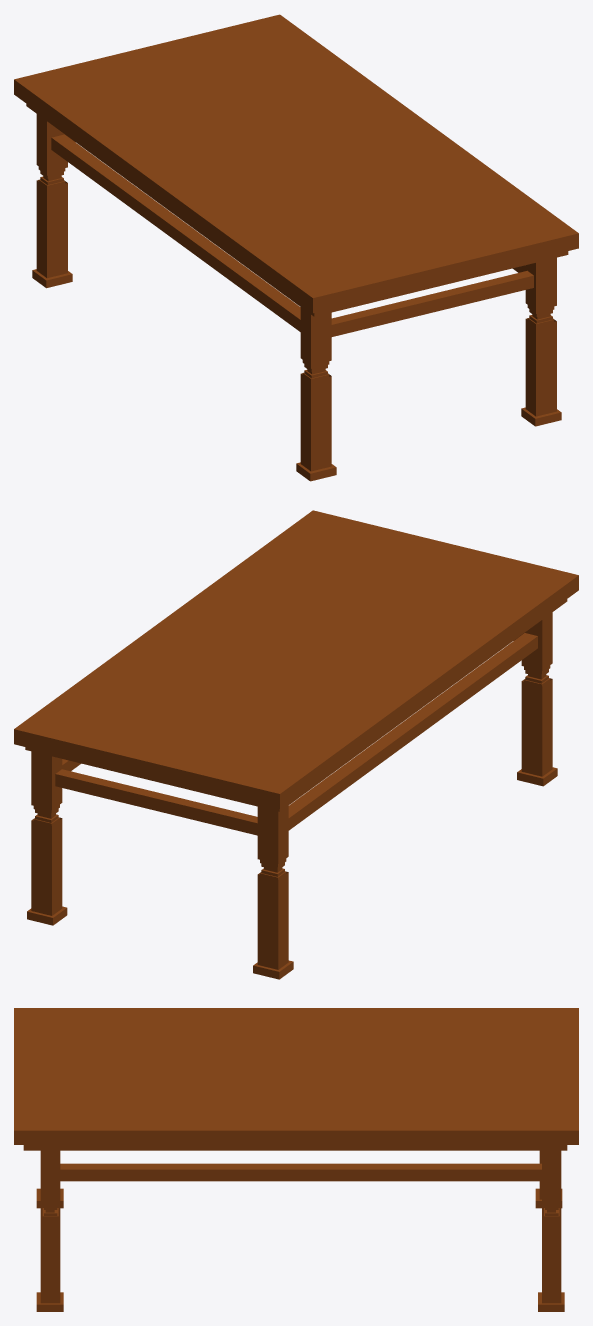
The model's file is table2.dae.
3 views of the same model, one above another, from view 1: azimuth 30°, elevation 25°; view 2: azimuth 150°, elevation 25°; view 3: azimuth 270°, elevation 25° (orthographic). The views are drawn at different scales.
Parts seen in each view (by area): view 1: Model; view 2: Model; view 3: Model.
Part boxes in pixels (box(x1,y1,x2,y2)): Model: box(14, 14, 578, 481); Model: box(14, 510, 578, 979); Model: box(14, 1008, 578, 1311).
Bounding box in the file's own units: 198 × 386 × 138.
